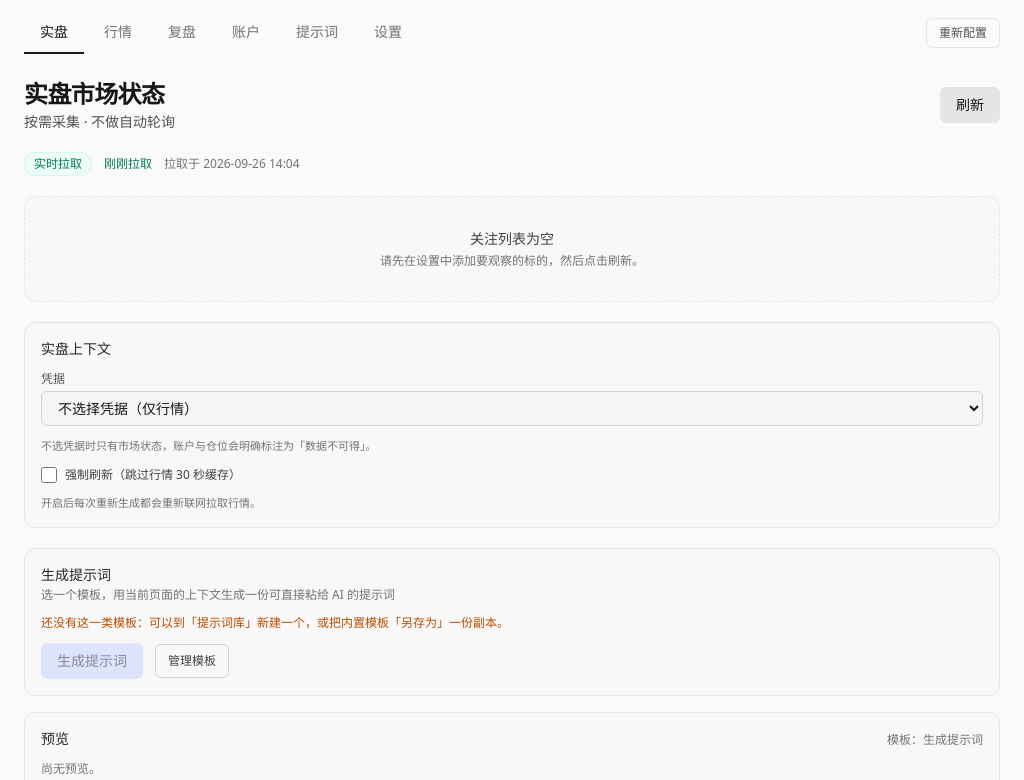
Scenario: App 闸门 › 「重新配置」入口以 reconfigure 形态打开引导（不含第 1 步，从代理开始）
Click the button "重新配置": x=963, y=32 [926,18,1000,48]
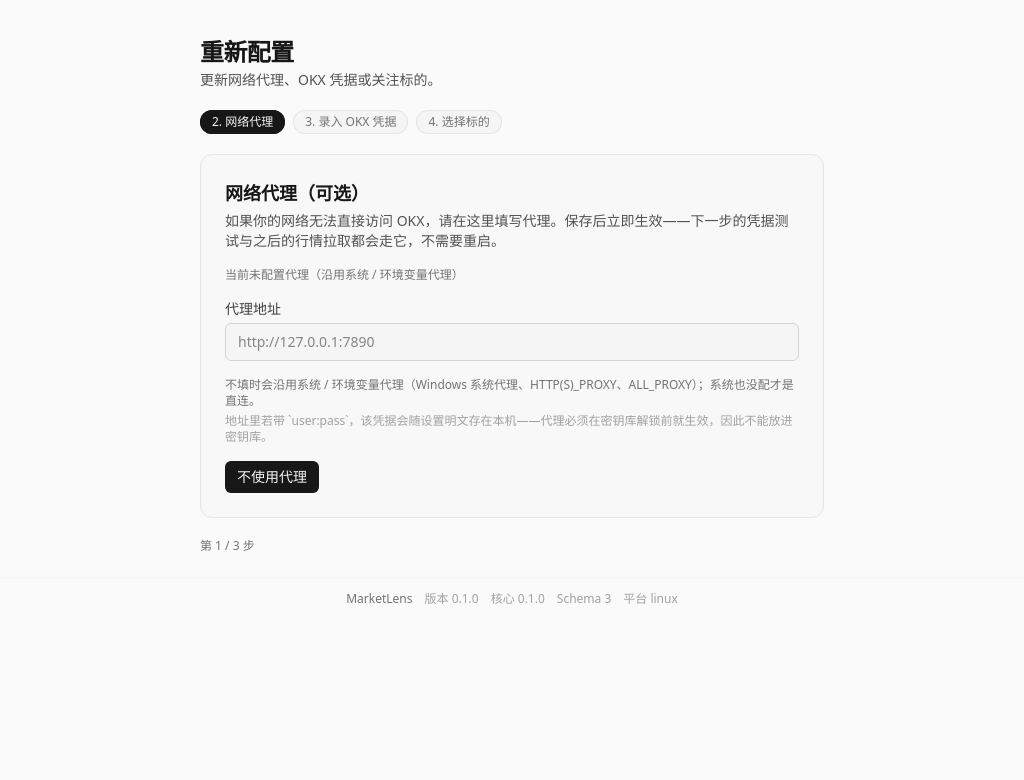
expect the text "重新配置" is shown: met, box [200,35,294,68]
expect the text "网络代理（可选）" is shown: met, box [225,181,369,205]
